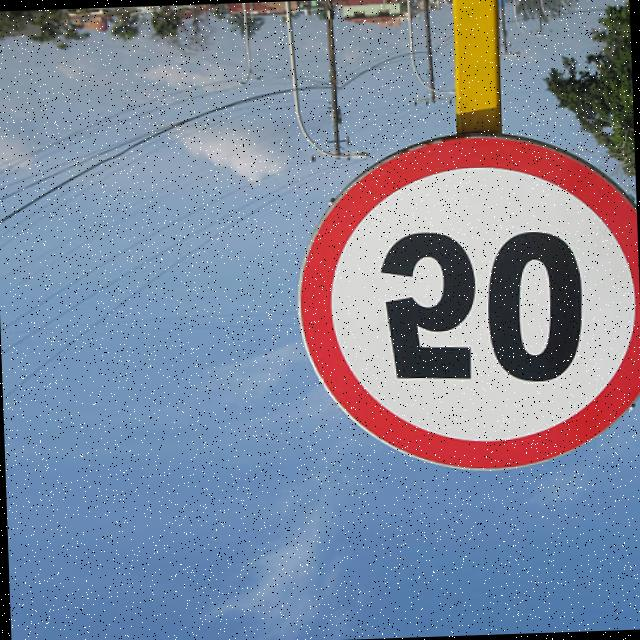speed_limit_50: (287, 121, 640, 488)
